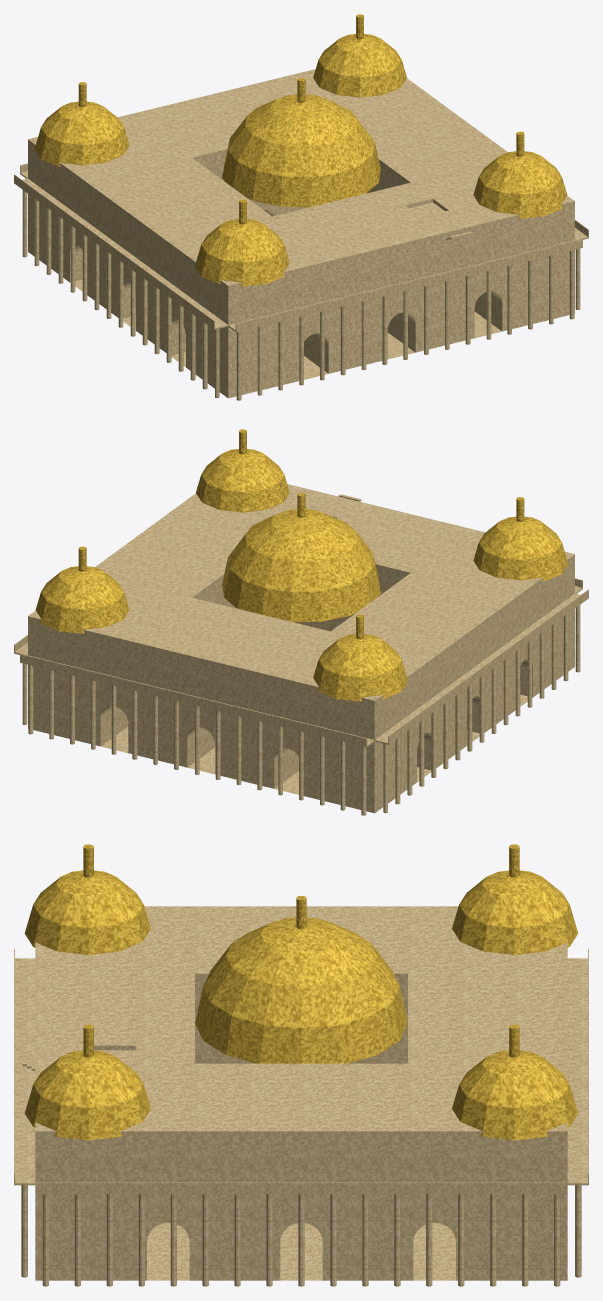
Rendered from mahal_palace.glb.
The picture shows the model from 3 angles, top to bottom: view 1: azimuth 30°, elevation 25°; view 2: azimuth 150°, elevation 25°; view 3: azimuth 270°, elevation 25°; orthographic projection. The views are drawn at different scales.
Visible parts, largest first — view 1: MahalPalace; view 2: MahalPalace; view 3: MahalPalace.
Part boxes in pixels (x1,y1,x2,y2): MahalPalace: (14, 14, 588, 400); MahalPalace: (14, 429, 588, 815); MahalPalace: (14, 844, 588, 1286).
Size of the model in its own units: 54 by 28 by 54.
Materials: 2 (2 with a texture image).
